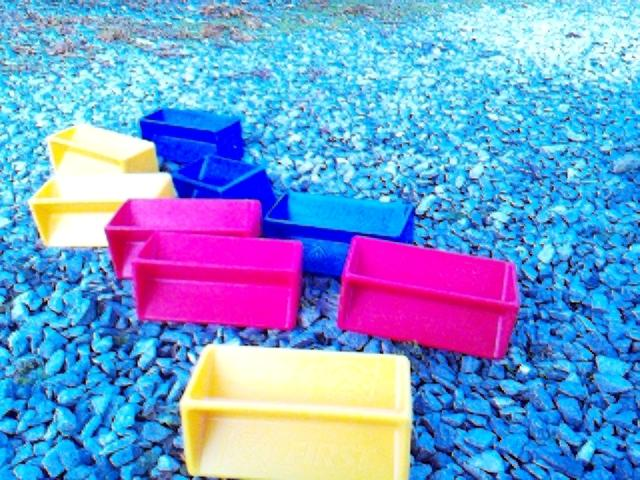blue: (263, 189, 416, 279), (170, 153, 276, 217), (138, 107, 245, 164)
red: (337, 234, 521, 360), (131, 231, 304, 331), (104, 197, 263, 281)
yellow: (179, 343, 413, 480), (28, 171, 178, 249), (47, 123, 159, 175)
